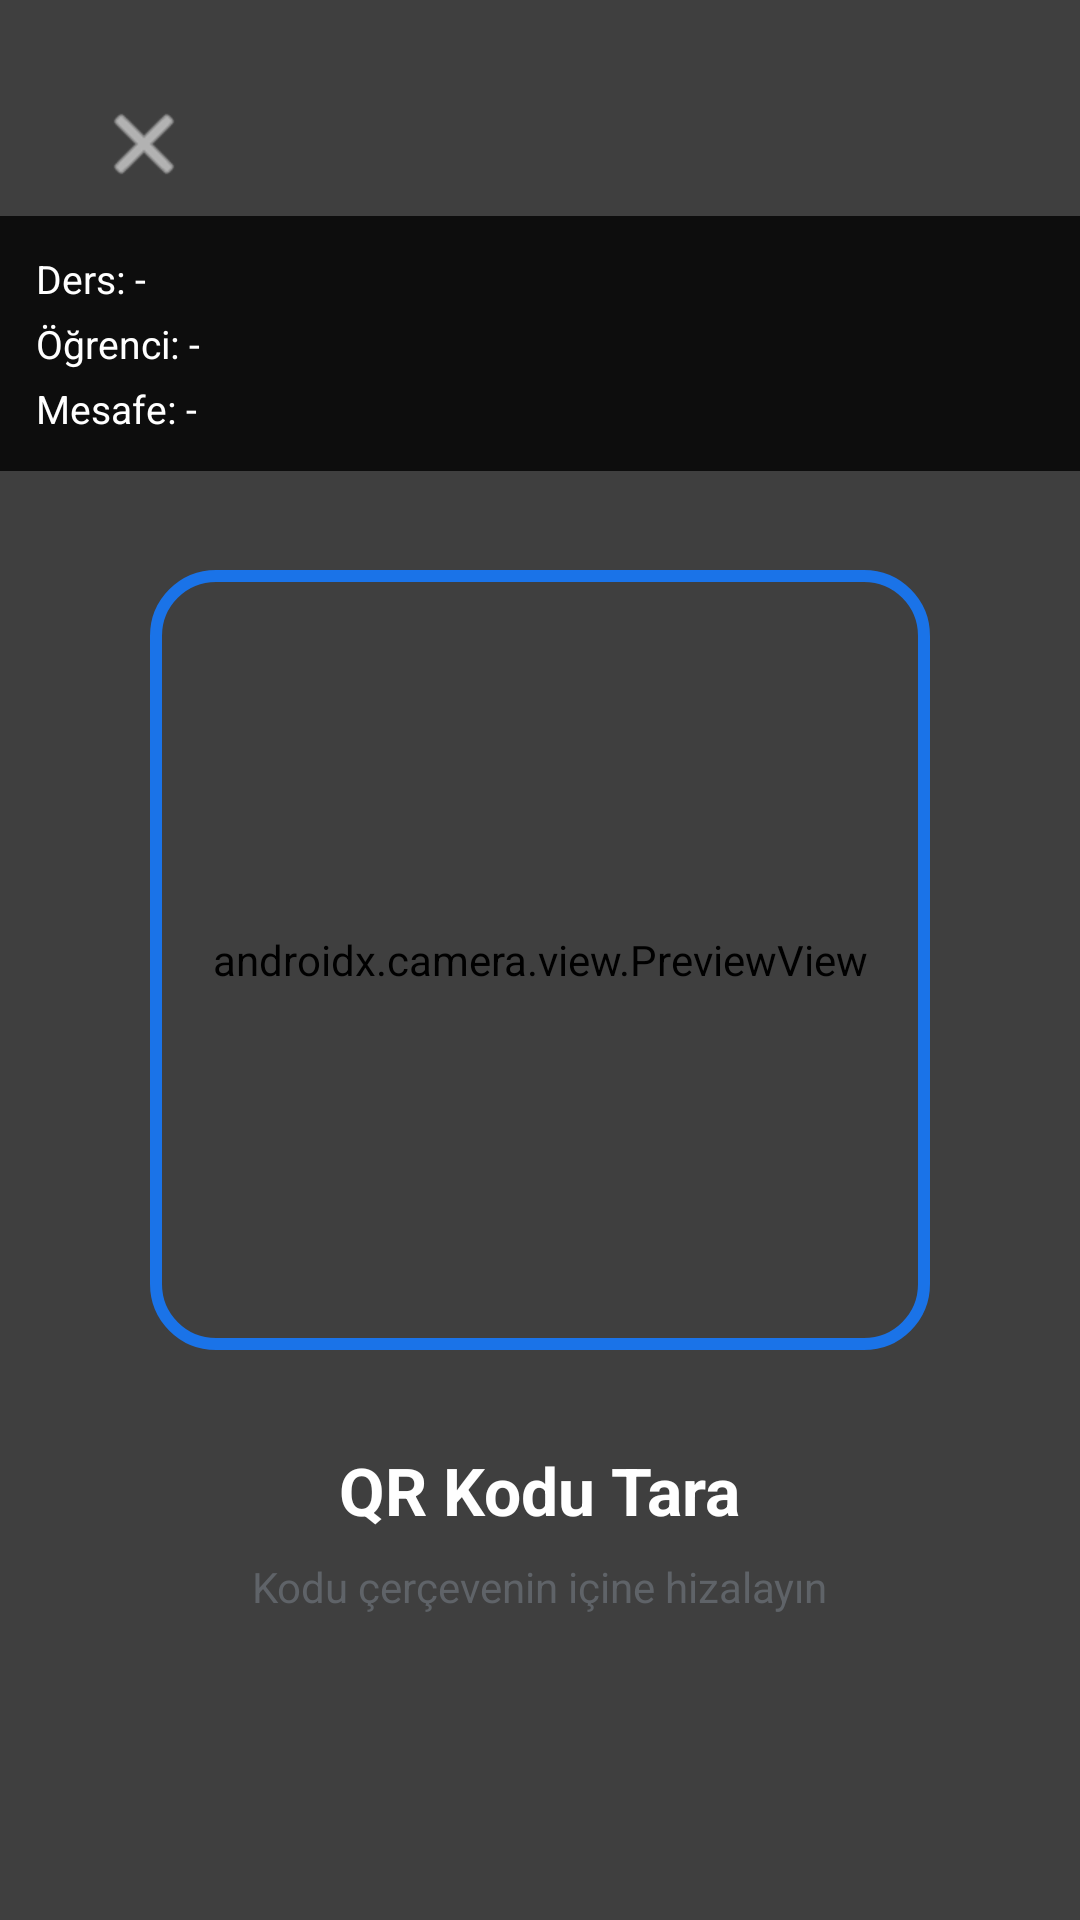

Where icons sit on this 1080px×1920px app screen, as detection(x1, y1, x2, y2):
Kapat: detection(114, 114, 174, 174)
